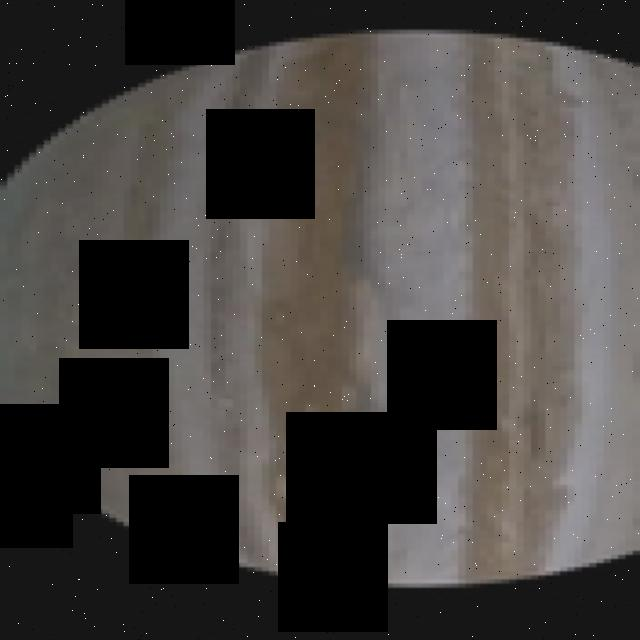Jupiter: (0, 24, 640, 590)
